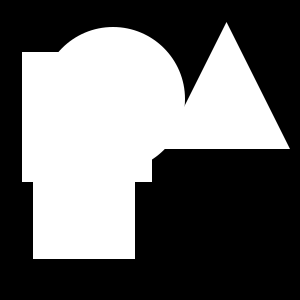circle: (22, 52, 152, 182), (33, 157, 135, 259)
rectangle: (41, 27, 185, 171)
triangle: (163, 22, 290, 149), (50, 96, 80, 126)
